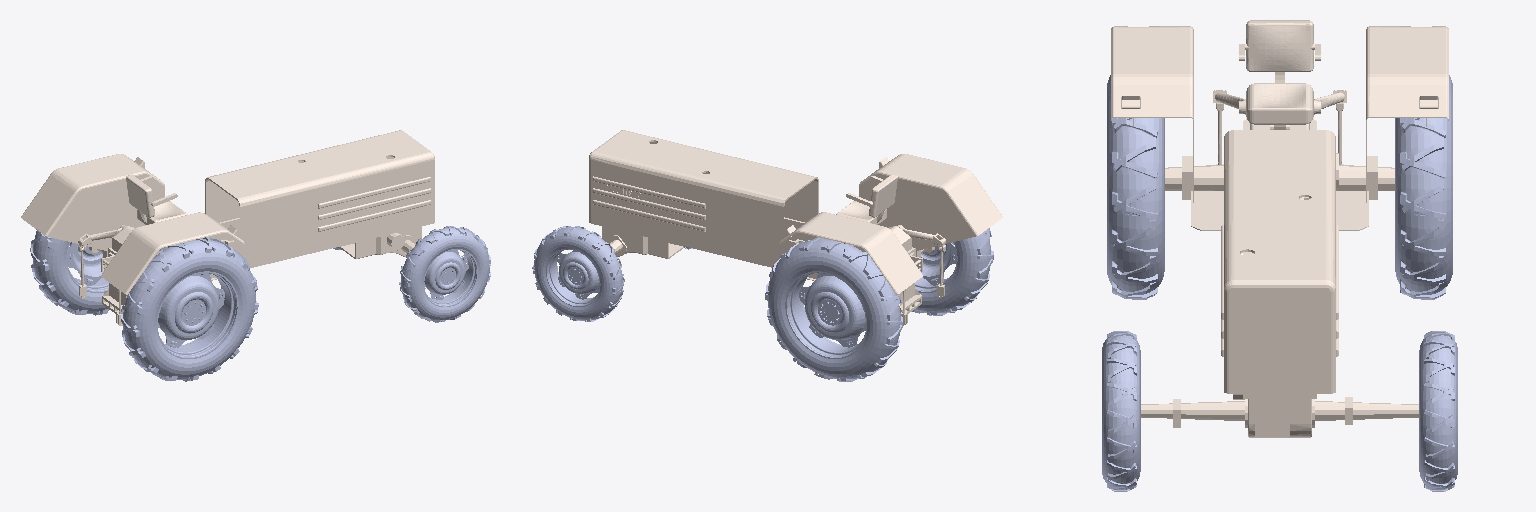
The robot description file, URDF, robot "tractor":
<?xml version="1.0" encoding="utf-8"?>
<!-- This URDF was automatically created by SolidWorks to URDF Exporter! Originally created by [author] ([email redacted]) 
     Commit Version: 1.6.0-4-g7f85cfe  Build Version: 1.6.7995.38578
     For more information, please see http://wiki.ros.org/sw_urdf_exporter -->
<robot
  name="tractor">
  
  <link
    name="base_link">
    <inertial>
      <origin
        xyz="0.17142 0.086225 0.0015789"
        rpy="0 0 0" />
      <mass
        value="2890" />
      <inertia
        ixx="1225"
        ixy="166.96"
        ixz="-1.1891"
        iyy="5357.7"
        iyz="-1.5076"
        izz="4831" />
    </inertial>
    <visual>
      <origin
        xyz="0 0 0"
        rpy="0 0 0" />
      <geometry>
        <mesh
          filename="package://tractor/meshes/base_link.STL" />
      </geometry>
      <material
        name="">
        <color
          rgba="1 0.94902 0.9098 1" />
      </material>
    </visual>
    <collision>
      <origin
        xyz="0 0 0"
        rpy="0 0 0" />
      <geometry>
        <mesh
          filename="package://tractor/meshes/base_link.STL" />
      </geometry>
    </collision>
  </link>
  <link
    name="Front_L">
    <inertial>
      <origin
        xyz="0.17142 0.086225 0.0015789"
        rpy="0 0 0" />
      <mass
        value="100" />
      <inertia
        ixx="1225"
        ixy="166.96"
        ixz="-1.1891"
        iyy="5357.7"
        iyz="-1.5076"
        izz="4831" />
    </inertial>
    <visual>
      <origin
        xyz="0 0 0"
        rpy="0 0 0" />
      <geometry>
        <mesh
          filename="package://tractor/meshes/Front_L.STL" />
      </geometry>
      <material
        name="">
        <color
          rgba="0.79216 0.81961 0.93333 1" />
      </material>
    </visual>
    <collision>
      <origin
        xyz="0 0 0"
        rpy="0 0 0" />
      <geometry>
        <mesh
          filename="package://tractor/meshes/Front_L.STL" />
      </geometry>
    </collision>
  </link>
  <joint
    name="Front1"
    type="continuous">
    <origin
      xyz="1.6143 -0.81922 -0.13999"
      rpy="0 0 0" />
    <parent
      link="base_link" />
    <child
      link="Front_L" />
    <axis
      xyz="0 1 0" />
  </joint>
  <link
    name="Front_R">
    <inertial>
      <origin
        xyz="0.17142 0.086225 0.0015789"
        rpy="0 0 0" />
      <mass
        value="100" />
      <inertia
        ixx="1225"
        ixy="166.96"
        ixz="-1.1891"
        iyy="5357.7"
        iyz="-1.5076"
        izz="4831" />
    </inertial>
    <visual>
      <origin
        xyz="0 0 0"
        rpy="0 0 0" />
      <geometry>
        <mesh
          filename="package://tractor/meshes/Front_R.STL" />
      </geometry>
      <material
        name="">
        <color
          rgba="0.79216 0.81961 0.93333 1" />
      </material>
    </visual>
    <collision>
      <origin
        xyz="0 0 0"
        rpy="0 0 0" />
      <geometry>
        <mesh
          filename="package://tractor/meshes/Front_R.STL" />
      </geometry>
    </collision>
  </link>
  <joint
    name="Front2"
    type="continuous">
    <origin
      xyz="1.6143 0.81922 -0.13999"
      rpy="0 0 0" />
    <parent
      link="base_link" />
    <child
      link="Front_R" />
    <axis
      xyz="0 1 0" />
  </joint>
  <link
    name="Rear_L">
    <inertial>
      <origin
        xyz="0.17142 0.086225 0.0015789"
        rpy="0 0 0" />
      <mass
        value="100" />
      <inertia
        ixx="1225"
        ixy="166.96"
        ixz="-1.1891"
        iyy="5357.7"
        iyz="-1.5076"
        izz="4831" />
    </inertial>
    <visual>
      <origin
        xyz="0 0 0"
        rpy="0 0 0" />
      <geometry>
        <mesh
          filename="package://tractor/meshes/Rear_L.STL" />
      </geometry>
      <material
        name="">
        <color
          rgba="0.79216 0.81961 0.93333 1" />
      </material>
    </visual>
    <collision>
      <origin
        xyz="0 0 0"
        rpy="0 0 0" />
      <geometry>
        <mesh
          filename="package://tractor/meshes/Rear_L.STL" />
      </geometry>
    </collision>
  </link>
  <joint
    name="Rear1"
    type="continuous">
    <origin
      xyz="-0.65 -0.77 0.055"
      rpy="0 0 0" />
    <parent
      link="base_link" />
    <child
      link="Rear_L" />
    <axis
      xyz="0 1 0" />
  </joint>
  <link
    name="Rear_R">
    <inertial>
      <origin
        xyz="0.17142 0.086225 0.0015789"
        rpy="0 0 0" />
      <mass
        value="100" />
      <inertia
        ixx="1225"
        ixy="166.96"
        ixz="-1.1891"
        iyy="5357.7"
        iyz="-1.5076"
        izz="4831" />
    </inertial>
    <visual>
      <origin
        xyz="0 0 0"
        rpy="0 0 0" />
      <geometry>
        <mesh
          filename="package://tractor/meshes/Rear_R.STL" />
      </geometry>
      <material
        name="">
        <color
          rgba="0.79216 0.81961 0.93333 1" />
      </material>
    </visual>
    <collision>
      <origin
        xyz="0 0 0"
        rpy="0 0 0" />
      <geometry>
        <mesh
          filename="package://tractor/meshes/Rear_R.STL" />
      </geometry>
    </collision>
  </link>
  <joint
    name="Rear2"
    type="continuous">
    <origin
      xyz="-0.65 0.77 0.055"
      rpy="0 0 0" />
    <parent
      link="base_link" />
    <child
      link="Rear_R" />
    <axis
      xyz="0 1 0" />
  </joint>
  <link
    name="IMPLEMENT">
    <inertial>
      <origin
        xyz="0.17142 0.086225 0.0015789"
        rpy="0 0 0" />
      <mass
        value="220" />
      <inertia
        ixx="1225"
        ixy="166.96"
        ixz="-1.1891"
        iyy="5357.7"
        iyz="-1.5076"
        izz="4831" />
    </inertial>
    <visual>
      <origin
        xyz="0 0 0"
        rpy="0 0 0" />
      <geometry>
        <mesh
          filename="package://tractor/meshes/IMPLEMENT.STL" />
      </geometry>
      <material
        name="">
        <color
          rgba="0.79216 0.81961 0.93333 1" />
      </material>
    </visual>
    <collision>
      <origin
        xyz="0 0 0"
        rpy="0 0 0" />
      <geometry>
        <mesh
          filename="package://tractor/meshes/IMPLEMENT.STL" />
      </geometry>
    </collision>
  </link>
  <joint
    name="implement"
    type="revolute">
    <origin
      xyz="-0.985 0.0072479 0.245"
      rpy="0 0 0" />
    <parent
      link="base_link" />
    <child
      link="IMPLEMENT" />
    <axis
      xyz="0 1 0" />
    <limit
      lower="0.95"
      upper="1"
      effort="1"
      velocity="1" />
  </joint>

  <gazebo reference="base_link">
    <material>Gazebo/Blue</material>
  </gazebo>
  
  <gazebo reference="Front_L">
    <material>Gazebo/Black</material>
  </gazebo>
  
  <gazebo reference="Front_R">
    <material>Gazebo/Black</material>
  </gazebo>

  <gazebo reference="Rear_R">
    <material>Gazebo/Black</material>
  </gazebo>
  
  <gazebo reference="Rear_L">
    <material>Gazebo/Black</material>
  </gazebo>
     
  <gazebo reference="IMPLEMENT">
    <material>Gazebo/Gray</material>
  </gazebo>

  <link name="ultrasonic_link">
    <visual>
      <geometry>
        <cylinder length="0.02" radius="0.01"/>
      </geometry>
      <material name="Gray"/>
    </visual>

    <collision>
      <geometry>
        <cylinder length="0.02" radius="0.01"/>
      </geometry>
    </collision>

    <inertial>
      <mass value="0.01"/>
      <origin xyz="0 0 0" rpy="0 0 0"/>
      <inertia ixx="0.000001" ixy="0" iyy="0.000001" izz="0.000001" iyz="0" ixz="0"/>
    </inertial>
  </link>

  <joint name="ultrasonic_joint" type="fixed">
    <parent link="base_link"/>
    <child link="ultrasonic_link"/>
    <origin xyz="1.8 0 0.1" rpy="0 0 0"/>
  </joint>


<!-- Front Left Ultrasonic Sensor -->

  <gazebo reference="ultrasonic_link">
    <sensor type="ray" name="ultrasonic_fl">
      <always_on>true</always_on>
      <update_rate>20</update_rate>
      <pose>0 -0.26 0.1 0 0 0</pose>
      <visualize>true</visualize>
      <ray>
        <scan>
          <horizontal>
            <samples>71</samples>
            <resolution>1</resolution>
            <min_angle>-1.22173</min_angle>
            <max_angle>1.22173</max_angle>
          </horizontal>
          <vertical>
            <samples>36</samples>
            <resolution>1</resolution>
            <min_angle>-0.2</min_angle>
            <max_angle>0.611</max_angle>
          </vertical>
        </scan>
        <range>
          <min>0.2</min>
          <max>2.5</max>
          <resolution>0.02</resolution>
        </range>
      </ray>

      <plugin name="ultrasonic_fl" filename="libhector_gazebo_ros_sonar.so">
        <gaussianNoise>0.005</gaussianNoise>
        <topicName>ultrasonic_fl</topicName>
        <frameId>ultrasonic_link</frameId>
      </plugin>
    </sensor>
  </gazebo>


<!-- Front Right Ultrasonic Sensor -->

  <gazebo reference="ultrasonic_link">
    <sensor type="ray" name="ultrasonic_fr">
      <always_on>true</always_on>
      <update_rate>20</update_rate>
      <pose>0 0.26 0.1 0 0 0</pose>
      <visualize>true</visualize>
      <ray>
        <scan>
          <horizontal>
            <samples>71</samples>
            <resolution>1</resolution>
            <min_angle>-1.22173</min_angle>
            <max_angle>1.22173</max_angle>
          </horizontal>
          <vertical>
            <samples>36</samples>
            <resolution>1</resolution>
            <min_angle>-0.2</min_angle>
            <max_angle>0.611</max_angle>
          </vertical>
        </scan>
        <range>
          <min>0.2</min>
          <max>2.5</max>
          <resolution>0.02</resolution>
        </range>
      </ray>

      <plugin name="ultrasonic_fr" filename="libhector_gazebo_ros_sonar.so">
        <gaussianNoise>0.005</gaussianNoise>
        <topicName>ultrasonic_fr</topicName>
        <frameId>ultrasonic_link</frameId>
      </plugin>
    </sensor>
  </gazebo>


<!-- Middle Left Ultrasonic Sensor -->

  <gazebo reference="ultrasonic_link">
    <sensor type="ray" name="ultrasonic_ml">
      <always_on>true</always_on>
      <update_rate>20</update_rate>
      <pose>-0.45 -0.29 0.27 0 0 -1.5708</pose>
      <visualize>true</visualize>
      <ray>
        <scan>
          <horizontal>
            <samples>71</samples>
            <resolution>1</resolution>
            <min_angle>-1.22173</min_angle>
            <max_angle>1.22173</max_angle>
          </horizontal>
          <vertical>
            <samples>36</samples>
            <resolution>1</resolution>
            <min_angle>-0.1</min_angle>
            <max_angle>0.611</max_angle>
          </vertical>
        </scan>
        <range>
          <min>0.2</min>
          <max>2.5</max>
          <resolution>0.02</resolution>
        </range>
      </ray>

      <plugin name="ultrasonic_ml" filename="libhector_gazebo_ros_sonar.so">
        <gaussianNoise>0.005</gaussianNoise>
        <topicName>ultrasonic_ml</topicName>
        <frameId>ultrasonic_link</frameId>
      </plugin>
    </sensor>
  </gazebo>


<!-- Middle Right Ultrasonic Sensor -->

  <gazebo reference="ultrasonic_link">
    <sensor type="ray" name="ultrasonic_mr">
      <always_on>true</always_on>
      <update_rate>20</update_rate>
      <pose>-0.45 0.29 0.27 0 0 1.5708</pose>
      <visualize>true</visualize>
      <ray>
        <scan>
          <horizontal>
            <samples>71</samples>
            <resolution>1</resolution>
            <min_angle>-1.22173</min_angle>
            <max_angle>1.22173</max_angle>
          </horizontal>
          <vertical>
            <samples>36</samples>
            <resolution>1</resolution>
            <min_angle>-0.1</min_angle>
            <max_angle>0.611</max_angle>
          </vertical>
        </scan>
        <range>
          <min>0.2</min>
          <max>2.5</max>
          <resolution>0.02</resolution>
        </range>
      </ray>

      <plugin name="ultrasonic_mr" filename="libhector_gazebo_ros_sonar.so">
        <gaussianNoise>0.005</gaussianNoise>
        <topicName>ultrasonic_mr</topicName>
        <frameId>ultrasonic_link</frameId>
      </plugin>
    </sensor>
  </gazebo>
  
</robot>

--- What the picture shows (computed from the rendered views, not written in the file) ---
Views: 3 orthographic renders of the robot side by side, from view 1: azimuth 30°, elevation 25°; view 2: azimuth 150°, elevation 25°; view 3: azimuth 270°, elevation 25°.
Robot: tractor — 7 links, 6 joints (1 revolute, 4 continuous, 1 fixed); root link base_link; default pose: all joints at 0 but 1 set to mid-range because 0 is outside their limits (implement = 0.975).
Links seen in each view (by area): view 1: base_link, Rear_L, Front_L, Rear_R; view 2: base_link, Rear_R, Front_R, Rear_L; view 3: base_link, Rear_L, Rear_R, Front_R, Front_L.
Boxes of the visible links, bbox=[...] form: base_link: bbox=[21, 130, 434, 325]; Rear_L: bbox=[121, 237, 258, 381]; Front_L: bbox=[399, 226, 490, 322]; Rear_R: bbox=[30, 229, 108, 315]; base_link: bbox=[589, 130, 1002, 325]; Rear_R: bbox=[765, 237, 903, 381]; Front_R: bbox=[532, 226, 624, 321]; Rear_L: bbox=[912, 228, 993, 315]; base_link: bbox=[1111, 20, 1448, 437]; Rear_L: bbox=[1107, 75, 1164, 299]; Rear_R: bbox=[1395, 75, 1452, 299]; Front_R: bbox=[1419, 331, 1457, 491]; Front_L: bbox=[1102, 331, 1140, 491].
Bounding box of the posed robot: 3.31 × 1.74 × 1.42 m (x, y, z).
5 mesh visuals loaded from 6 distinct referenced files (5 binary STL); not drawn: 1 (reference not matched to a file when rendering).
